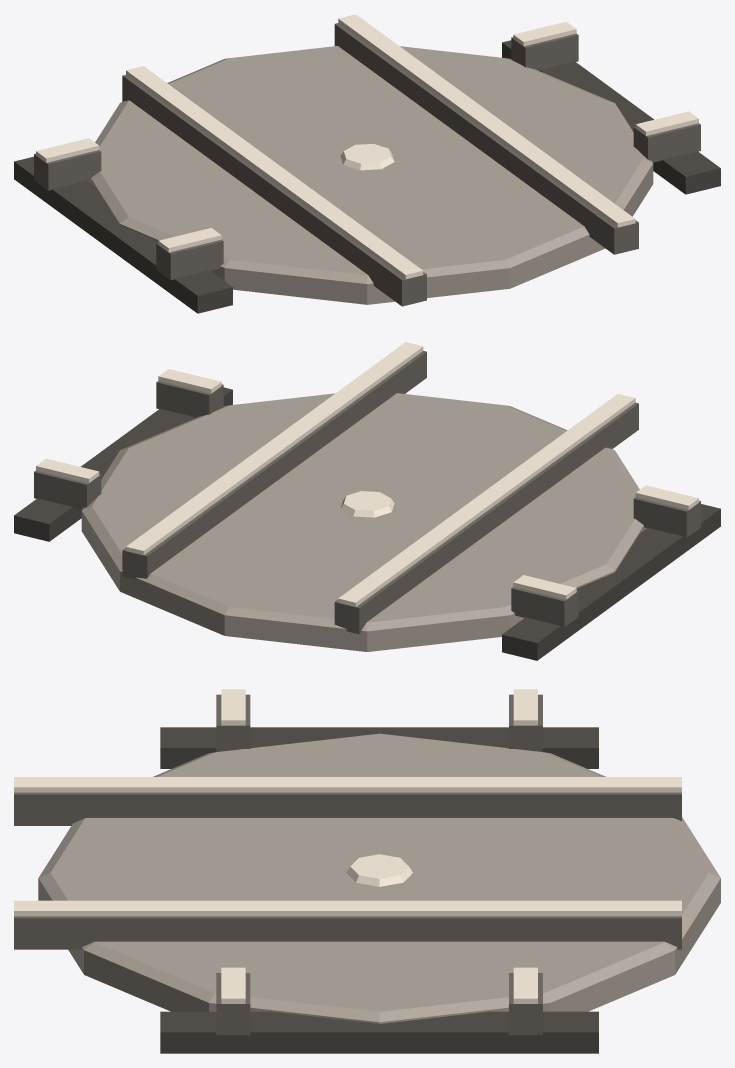
File: SM_VKI_Overlay_Track_Tee.fbx
The picture shows the model from 3 angles, top to bottom: view 1: azimuth 30°, elevation 25°; view 2: azimuth 150°, elevation 25°; view 3: azimuth 270°, elevation 25°; orthographic projection. The views are drawn at different scales.
Visible parts, largest first — view 1: SM_VKI_Overlay_Track_Tee.001; view 2: SM_VKI_Overlay_Track_Tee.001; view 3: SM_VKI_Overlay_Track_Tee.001.
Part boxes in pixels (x1,y1,x2,y2): SM_VKI_Overlay_Track_Tee.001: (14,14,720,313); SM_VKI_Overlay_Track_Tee.001: (14,342,720,660); SM_VKI_Overlay_Track_Tee.001: (14,689,720,1053).
Size of the model in its own units: 1.5 by 0.133 by 1.45.
